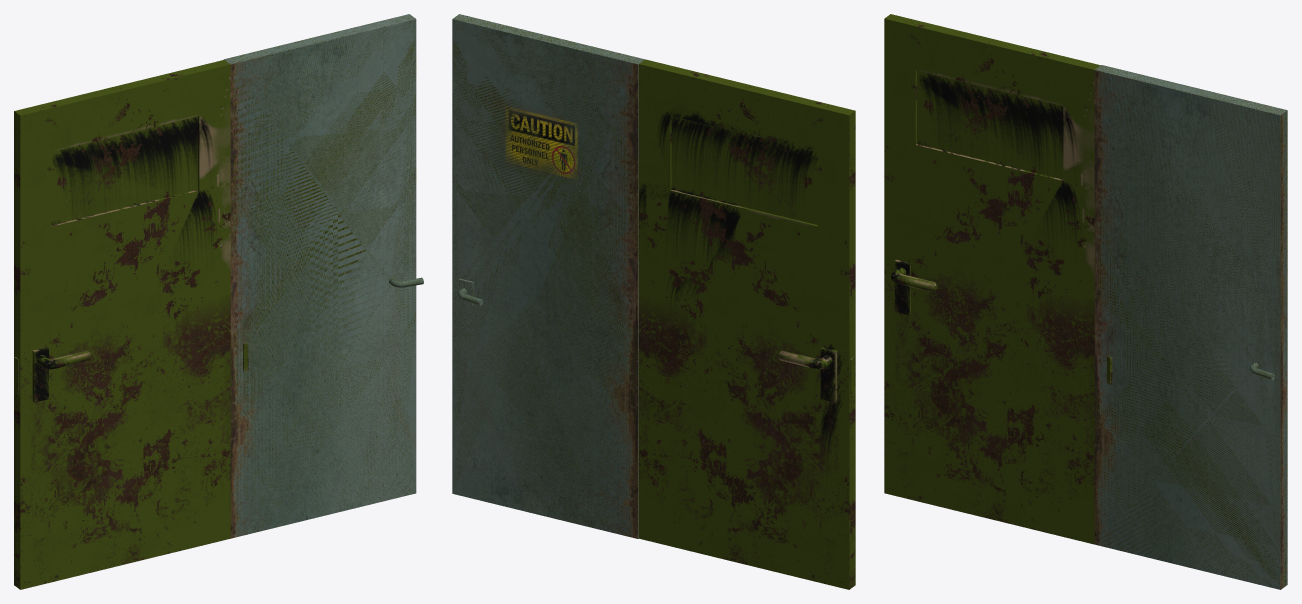
The model's file is doors.fbx.
3 views of the same model, side by side, from view 1: azimuth 30°, elevation 25°; view 2: azimuth 150°, elevation 25°; view 3: azimuth 330°, elevation 25° (orthographic).
Visible parts, largest first — view 1: Door_2, Door_1; view 2: Door_2, Door_1; view 3: Door_2, Door_1.
Boxes of the visible parts, x1=… form: Door_2: x1=14, y1=60, x2=248, y2=589; Door_1: x1=223, y1=14, x2=423, y2=538; Door_2: x1=639, y1=59, x2=855, y2=589; Door_1: x1=452, y1=14, x2=644, y2=538; Door_2: x1=884, y1=14, x2=1112, y2=544; Door_1: x1=1094, y1=65, x2=1287, y2=589.
Bounding box in the file's own units: 225 × 256 × 29.2.
